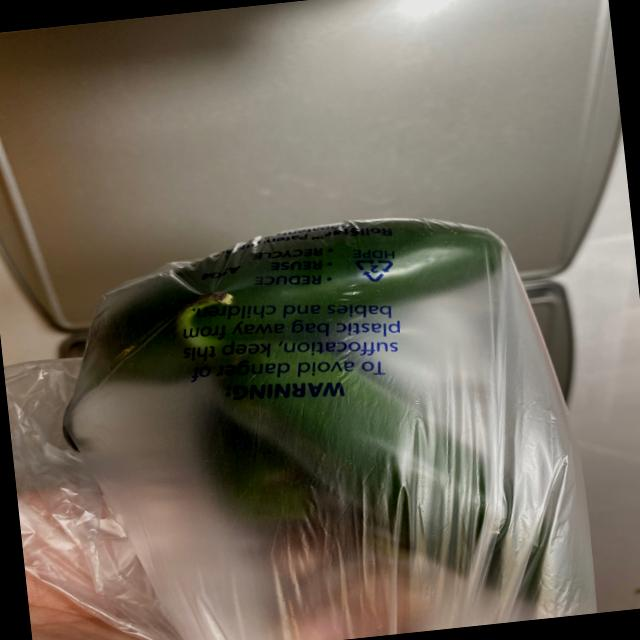chilli: (50, 215, 584, 640)
